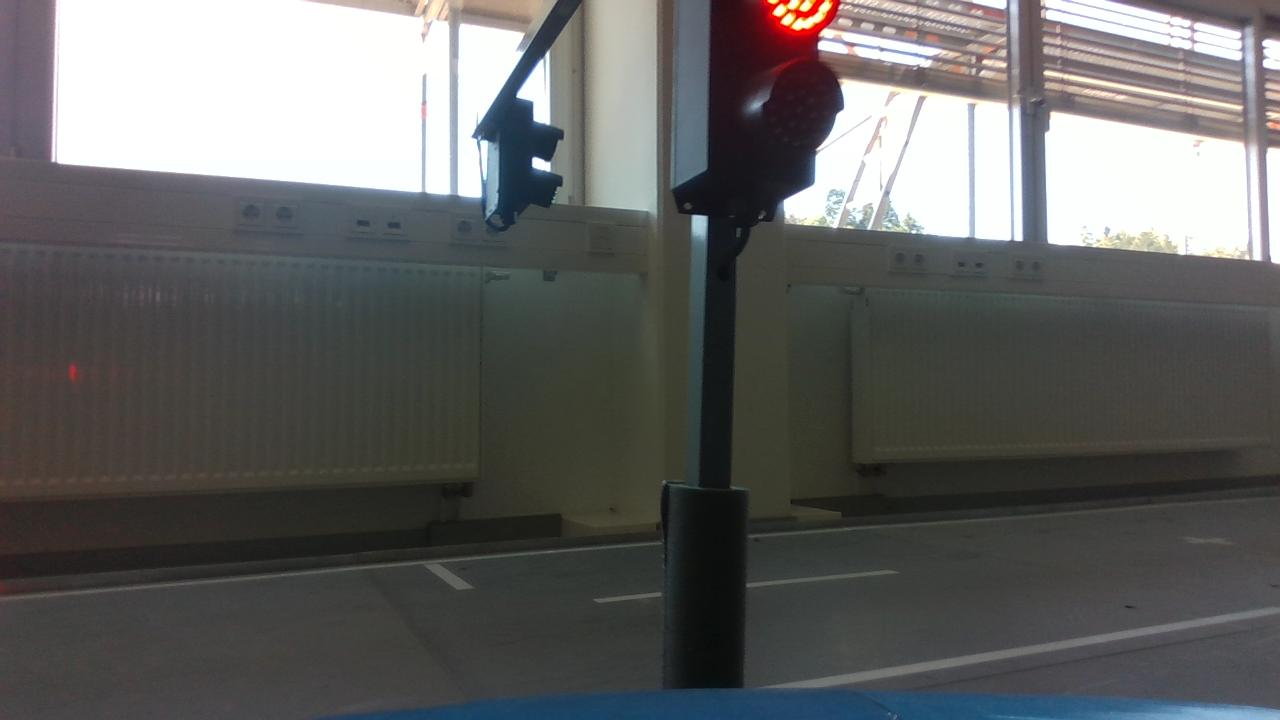traffic_light_red: (666, 1, 854, 246)
